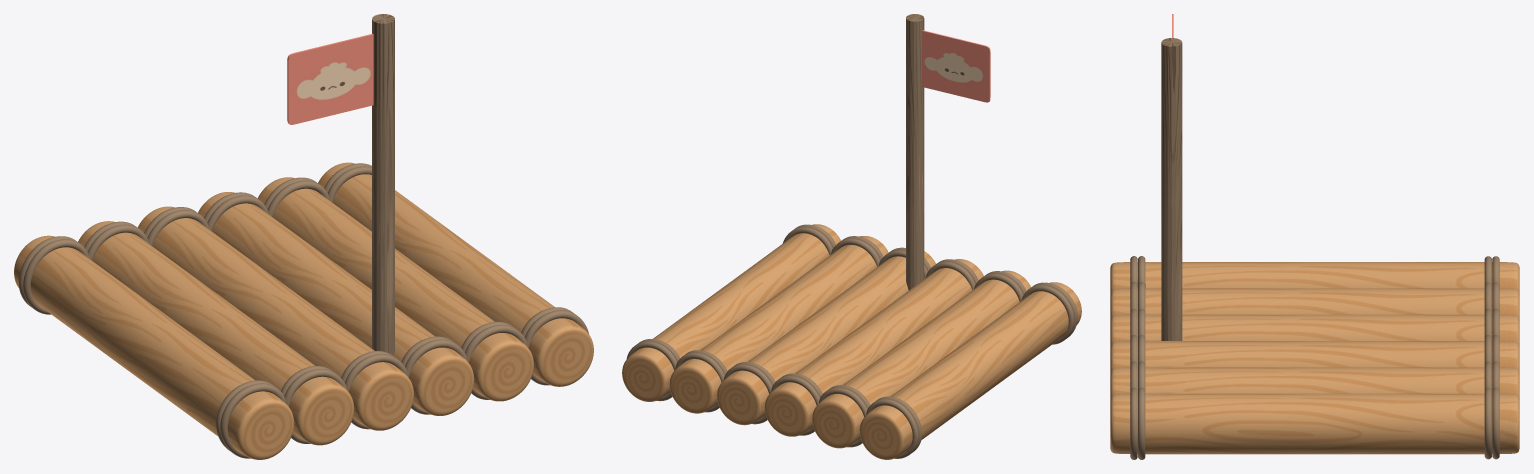
The model's file is raft_modeling.fbx.
3 views of the same model, side by side, from view 1: azimuth 30°, elevation 25°; view 2: azimuth 150°, elevation 25°; view 3: azimuth 270°, elevation 25° (orthographic). The views are drawn at different scales.
Parts seen in each view (by area): view 1: raft, raft_flag; view 2: raft, raft_flag; view 3: raft.
Boxes of the visible parts, x1,y1,x2,y2 form: raft: [14, 14, 593, 459]; raft_flag: [287, 33, 373, 124]; raft: [622, 14, 1081, 459]; raft_flag: [922, 30, 990, 102]; raft: [1110, 38, 1519, 459].
Size of the model in its own units: 402 by 403 by 429.
